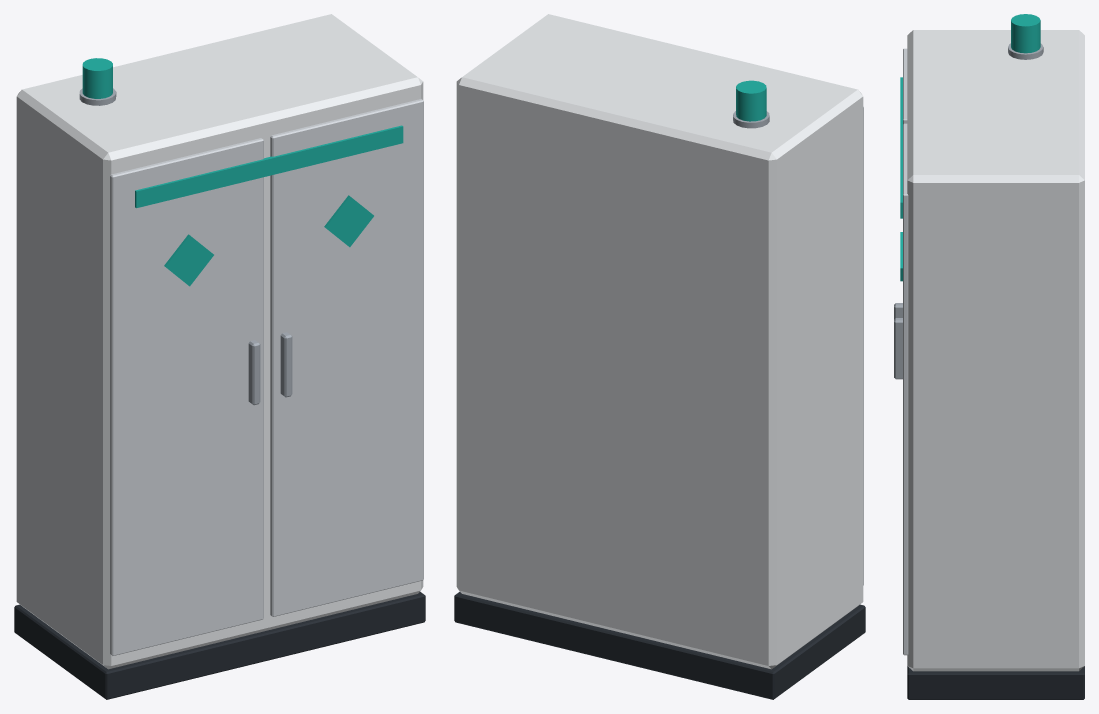
The model's file is flammable-cabinet.glb.
3 renders of one model, left to right at view 1: azimuth 30°, elevation 25°; view 2: azimuth 150°, elevation 25°; view 3: azimuth 270°, elevation 25°, orthographic. The views are drawn at different scales.
Parts seen in each view (by area): view 1: flammable-cabinet; view 2: flammable-cabinet; view 3: flammable-cabinet.
Boxes of the visible parts, left/top/right/bottom form: flammable-cabinet: left=14, top=14, right=425, bottom=699; flammable-cabinet: left=454, top=14, right=865, bottom=699; flammable-cabinet: left=894, top=14, right=1084, bottom=699.
Size of the model in its own units: 1.2 by 2.07 by 0.645.
